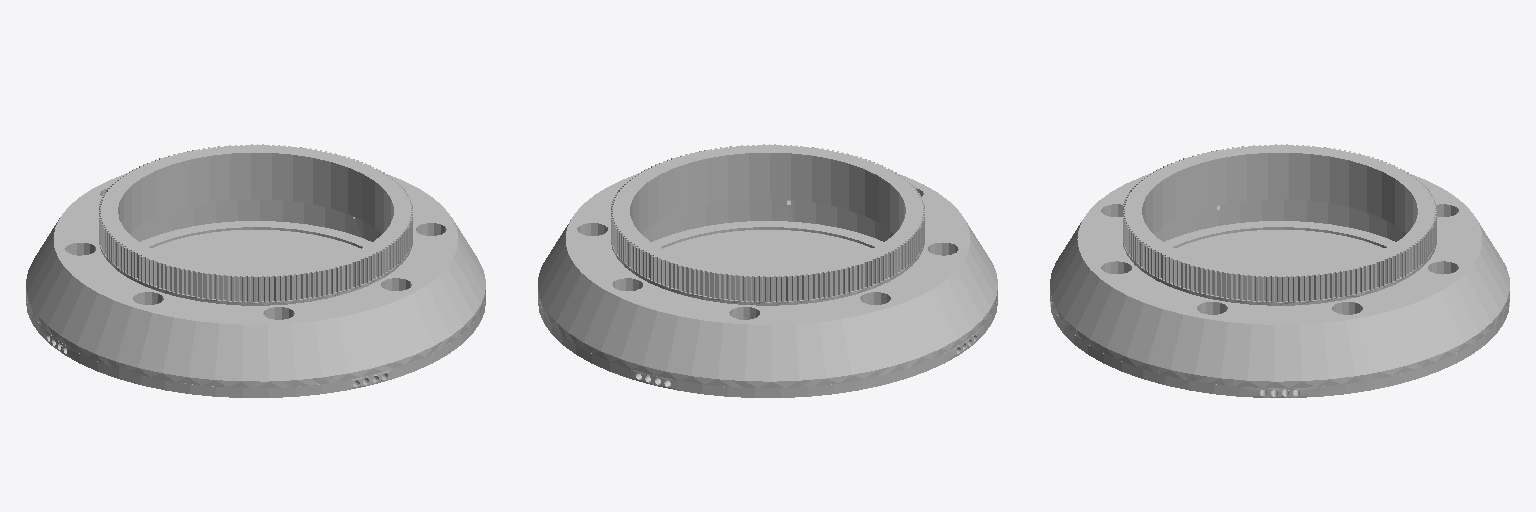
Rendered from dizuo.obj.
The picture shows the model from 3 angles: view 1: azimuth 30°, elevation 25°; view 2: azimuth 150°, elevation 25°; view 3: azimuth 270°, elevation 25°; orthographic projection.
Parts seen in each view (by area): view 1: mesh1; view 2: mesh1; view 3: mesh1.
Part boxes in pixels (bbox=[...]): mesh1: bbox=[26, 144, 485, 397]; mesh1: bbox=[538, 144, 997, 397]; mesh1: bbox=[1050, 144, 1509, 397].
Size of the model in its own units: 0.25 by 0.054 by 0.25.